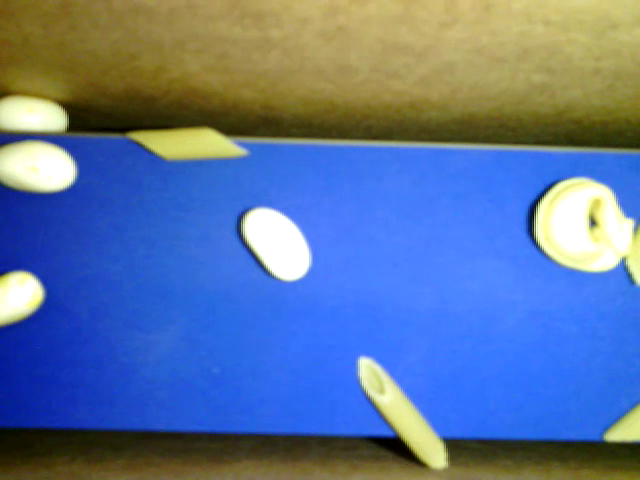penne: (358, 355, 449, 470), (126, 126, 249, 161)
tortellini: (533, 176, 632, 272)
